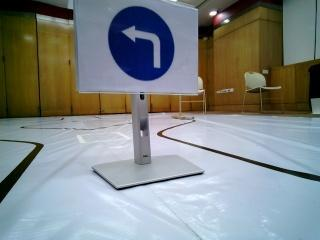left: (73, 4, 199, 96)
